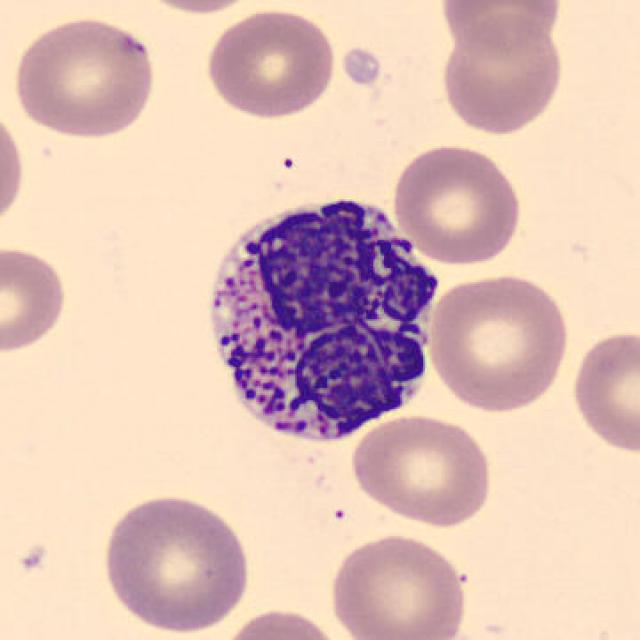Basophil: (190, 180, 450, 460)
Platelets: (340, 46, 382, 88)
RBC: (96, 488, 256, 636), (423, 268, 573, 414), (9, 11, 160, 141), (347, 411, 496, 529), (390, 139, 524, 268), (325, 529, 471, 640), (437, 14, 567, 138), (201, 5, 338, 122), (567, 326, 638, 457), (0, 242, 71, 356), (435, 0, 565, 56), (217, 604, 347, 640), (0, 102, 28, 234), (124, 0, 268, 16)
